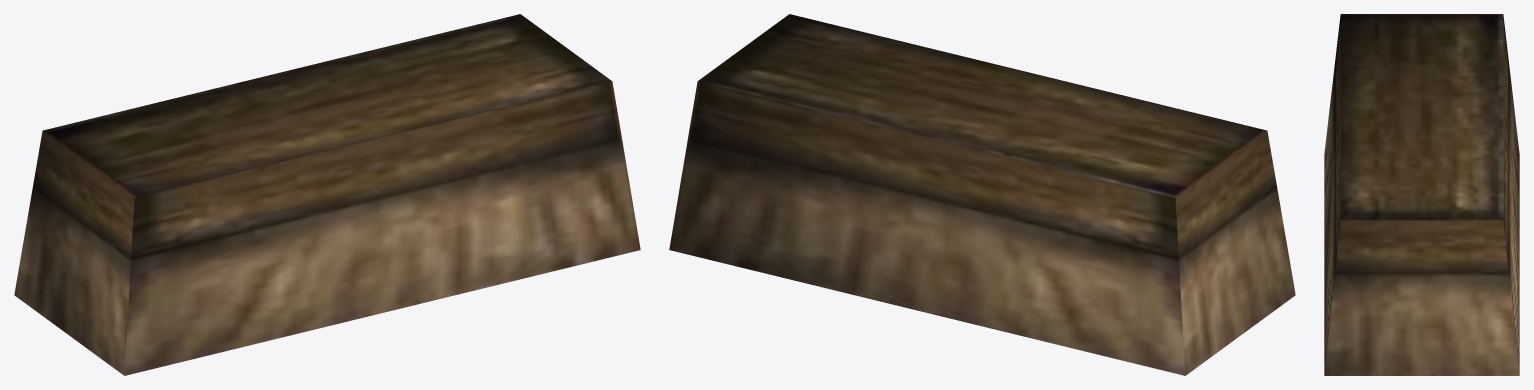
Rendered from ITMI_BRUSH.glb.
3 views of the same model, side by side, from view 1: azimuth 30°, elevation 25°; view 2: azimuth 150°, elevation 25°; view 3: azimuth 270°, elevation 25° (orthographic). The views are drawn at different scales.
Parts seen in each view (by area): view 1: Mesh; view 2: Mesh; view 3: Mesh.
Part boxes in pixels (<box>): Mesh: <box>14,14,640,375</box>; Mesh: <box>669,14,1295,375</box>; Mesh: <box>1324,14,1519,375</box>.
Bounding box in the file's own units: 0.358 × 0.1105 × 0.1325.
Materials: 1 (1 with a texture image).
